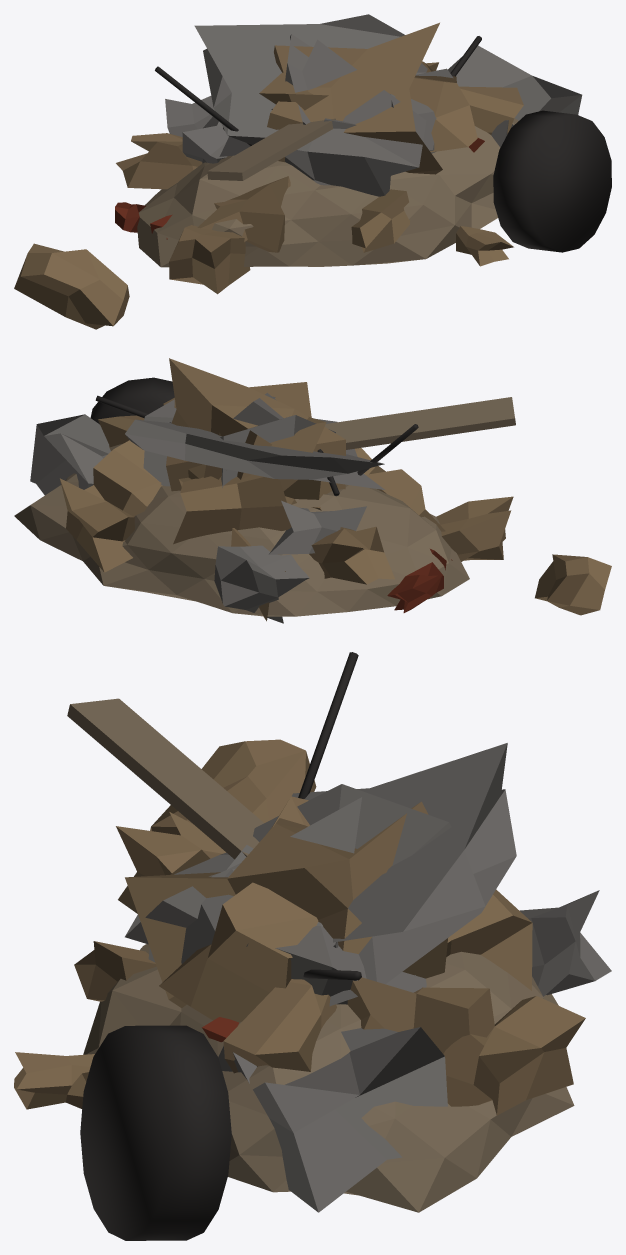
The model's file is cover_rubble_8.glb.
The picture shows the model from 3 angles, top to bottom: view 1: azimuth 30°, elevation 25°; view 2: azimuth 150°, elevation 25°; view 3: azimuth 270°, elevation 25°; orthographic projection. The views are drawn at different scales.
Visible parts, largest first — view 1: mound, tyre, slab, lump_17, lump_39, lump_15, lump_18, lump_32, lump_11, lump_30, lump_26, plank (+10 smaller); view 2: mound, slab, lump_17, lump_19, plank, lump_23, lump_18, lump_22, lump_32, lump_26, lump_15, lump_29 (+11 smaller); view 3: mound, tyre, slab, lump_18, lump_17, lump_30, lump_22, plank, lump_29, lump_36, lump_15, lump_23 (+9 smaller).
Part boxes in pixels (box(x1,y1,x2,y2)): mound: box(137, 118, 518, 267); tyre: box(493, 110, 611, 252); slab: box(194, 14, 427, 156); lump_17: box(267, 22, 442, 174); lump_39: box(277, 39, 434, 196); lump_15: box(14, 243, 129, 329); lump_18: box(448, 45, 582, 147); lump_32: box(169, 225, 250, 294); lump_11: box(197, 176, 290, 252); lump_30: box(409, 75, 477, 152); lump_26: box(116, 133, 202, 189); plank: box(207, 118, 335, 180); mound: box(14, 444, 469, 616); slab: box(125, 419, 384, 489); lump_17: box(169, 358, 345, 489); lump_19: box(173, 474, 291, 544); plank: box(324, 397, 515, 449); lump_23: box(214, 545, 309, 623); lump_18: box(30, 414, 110, 495); lump_22: box(60, 478, 134, 572); lump_32: box(436, 496, 513, 561); lump_26: box(309, 526, 394, 584); lump_15: box(535, 554, 611, 615); lump_29: box(93, 440, 162, 516); mound: box(83, 944, 574, 1212); tyre: box(80, 1025, 231, 1240); slab: box(292, 743, 516, 1006); lump_18: box(218, 1027, 447, 1212); lump_17: box(125, 801, 428, 1007); lump_30: box(159, 882, 318, 1022); lump_22: box(443, 996, 585, 1115); plank: box(67, 698, 263, 859); lump_29: box(347, 977, 494, 1053); lump_36: box(223, 979, 336, 1073); lump_15: box(150, 739, 316, 835); lump_23: box(520, 890, 611, 996).
Bounding box in the file's own units: 3.04 × 1.09 × 1.78.
